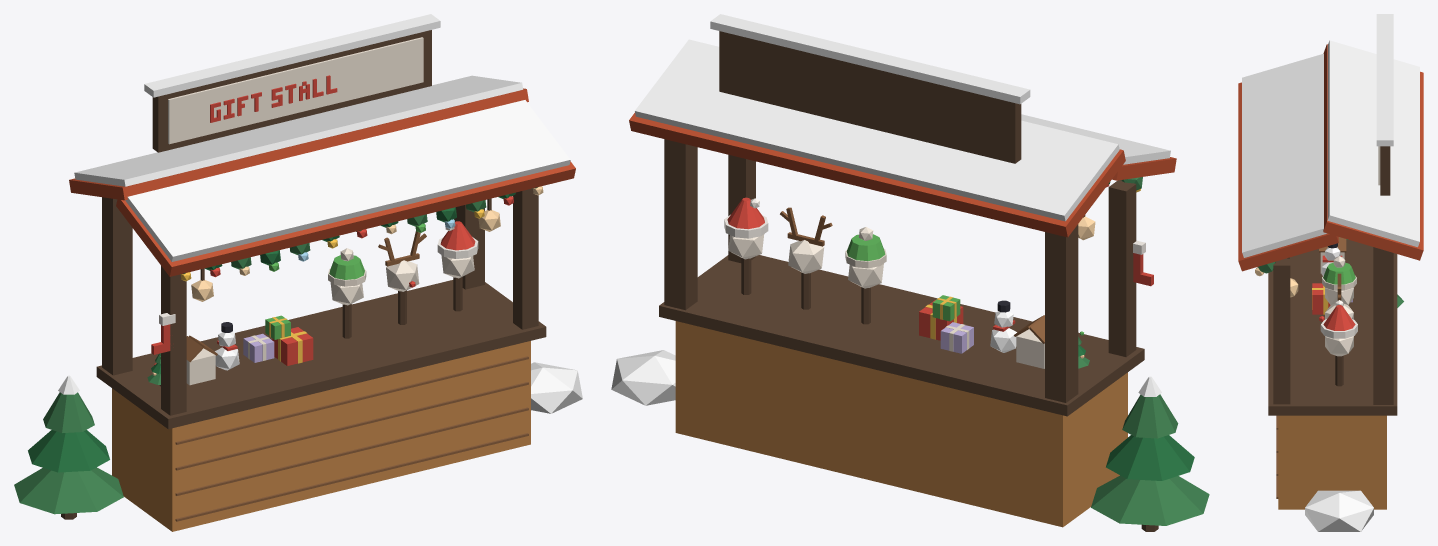
File: CatCafe_Snowglobe_Stall.glb
3 views of the same model, side by side, from view 1: azimuth 30°, elevation 25°; view 2: azimuth 150°, elevation 25°; view 3: azimuth 270°, elevation 25° (orthographic). The views are drawn at different scales.
Parts seen in each view (by area): view 1: CatCafe_Snowglobe_Stall, CatCafe_Snowglobe_Stall_Glow; view 2: CatCafe_Snowglobe_Stall; view 3: CatCafe_Snowglobe_Stall.
Boxes of the visible parts, x1=… form: CatCafe_Snowglobe_Stall: x1=14, y1=14, x2=582, y2=531; CatCafe_Snowglobe_Stall_Glow: x1=152, y1=186, x2=543, y2=375; CatCafe_Snowglobe_Stall: x1=611, y1=14, x2=1209, y2=531; CatCafe_Snowglobe_Stall: x1=1238, y1=14, x2=1423, y2=531.
Bounding box in the file's own units: 16.89 × 11.5 × 5.46.
Materials: 1 (1 with a texture image).
